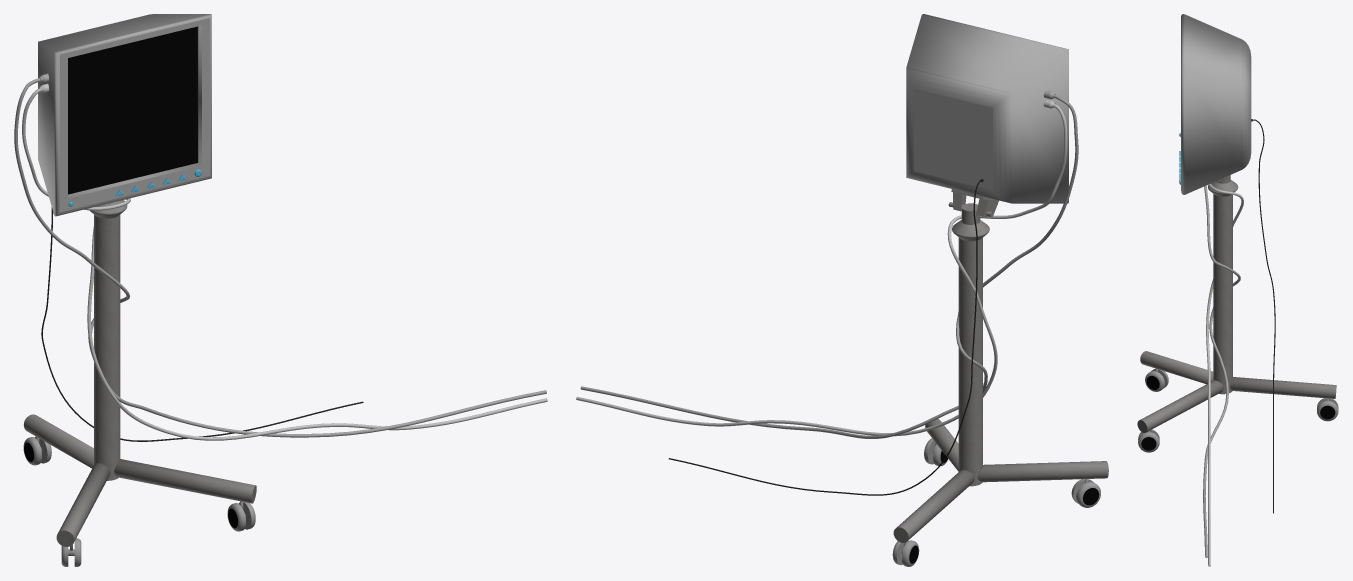
File: ecg.glb
3 renders of one model, left to right at view 1: azimuth 30°, elevation 25°; view 2: azimuth 150°, elevation 25°; view 3: azimuth 270°, elevation 25°, orthographic. The views are drawn at different scales.
Parts seen in each view (by area): view 1: SM_ECG; view 2: SM_ECG; view 3: SM_ECG.
Boxes of the visible parts, x1,y1,x2,y2 form: SM_ECG: (14,14,547,566); SM_ECG: (576,14,1108,566); SM_ECG: (1137,14,1338,566).
Size of the model in its own units: 1.7 by 1.52 by 0.7353.
Materials: 2 (2 with a texture image).
